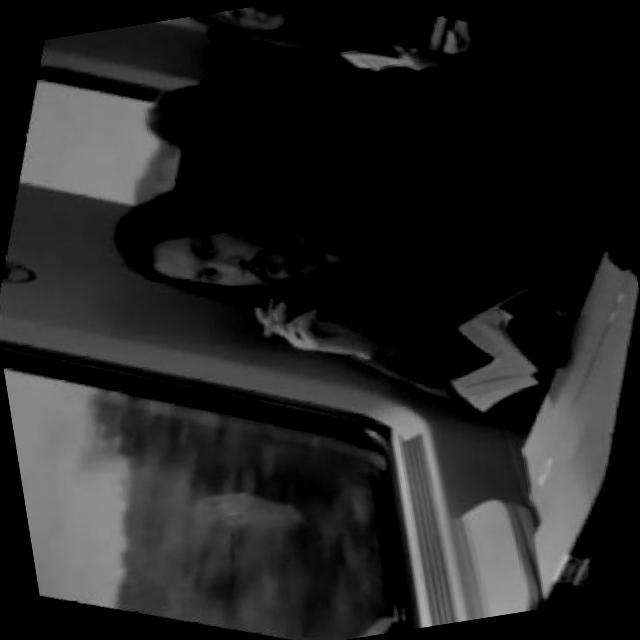smoke: (256, 292, 288, 341)
